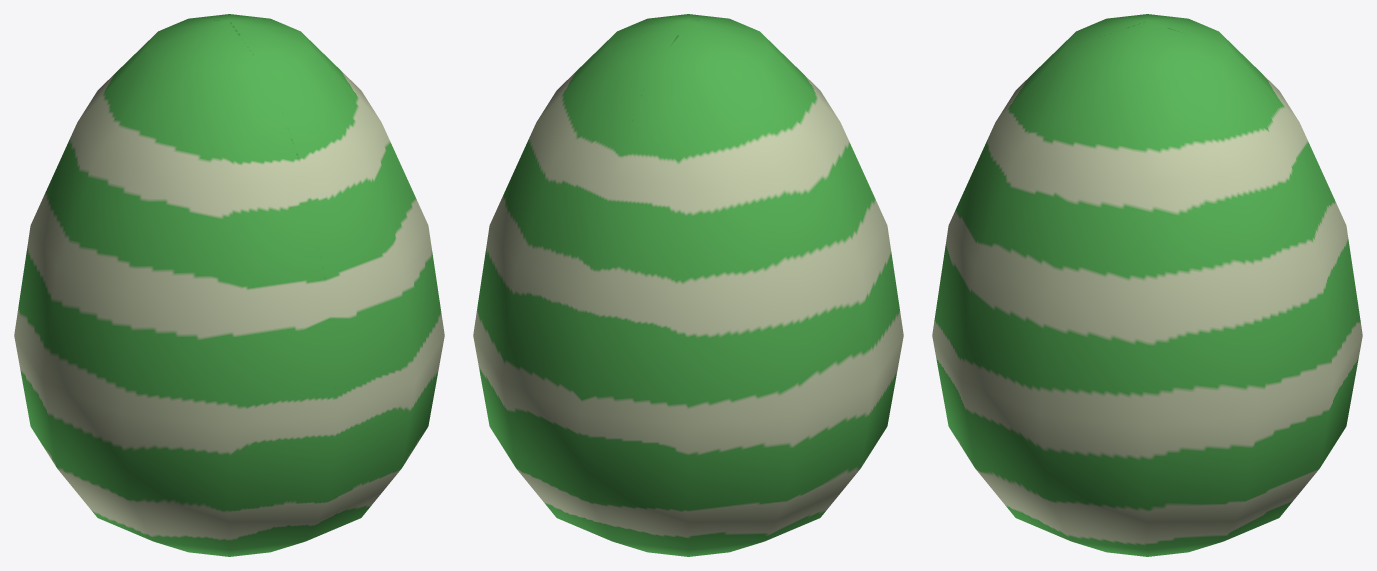
File: EasterEgg_Green.fbx
3 views of the same model, side by side, from view 1: azimuth 30°, elevation 25°; view 2: azimuth 150°, elevation 25°; view 3: azimuth 270°, elevation 25° (orthographic).
Visible parts, largest first — view 1: Sphere; view 2: Sphere; view 3: Sphere.
Boxes of the visible parts, left/top/right/bottom form: Sphere: left=14, top=14, right=444, bottom=556; Sphere: left=473, top=14, right=903, bottom=556; Sphere: left=932, top=14, right=1362, bottom=556.
Size of the model in its own units: 0.4834 by 0.6359 by 0.4834.
Materials: 1 (1 with a texture image).
